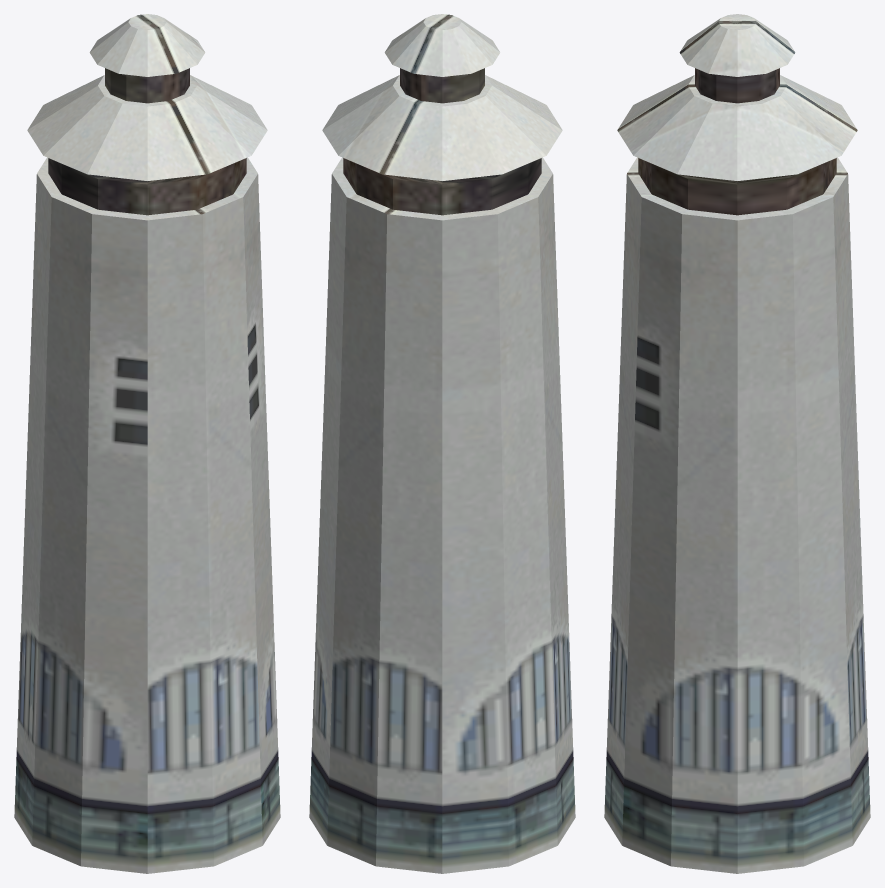
Rendered from eaw_alderaanBuilding5.glb.
3 renders of one model, left to right at view 1: azimuth 30°, elevation 25°; view 2: azimuth 150°, elevation 25°; view 3: azimuth 270°, elevation 25°, orthographic.
Parts seen in each view (by area): view 1: Alderaan_E_0; view 2: Alderaan_E_0; view 3: Alderaan_E_0.
Part boxes in pixels (x1,y1,x2,y2): Alderaan_E_0: (14,14,280,873); Alderaan_E_0: (309,14,575,873); Alderaan_E_0: (604,14,870,873).
Bounding box in the file's own units: 36.87 × 122 × 36.87.
1 material, 1 textured.
